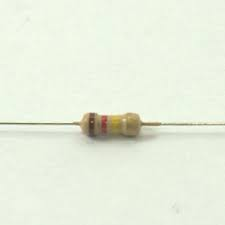resistor: (64, 99, 156, 163)
